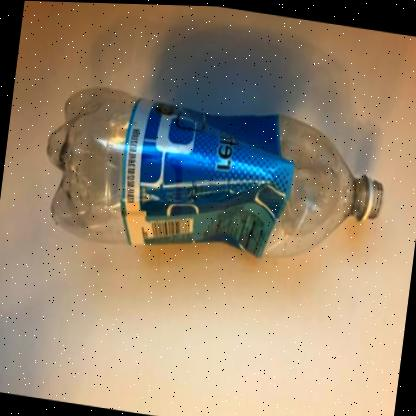Plastic: (45, 87, 383, 255)
